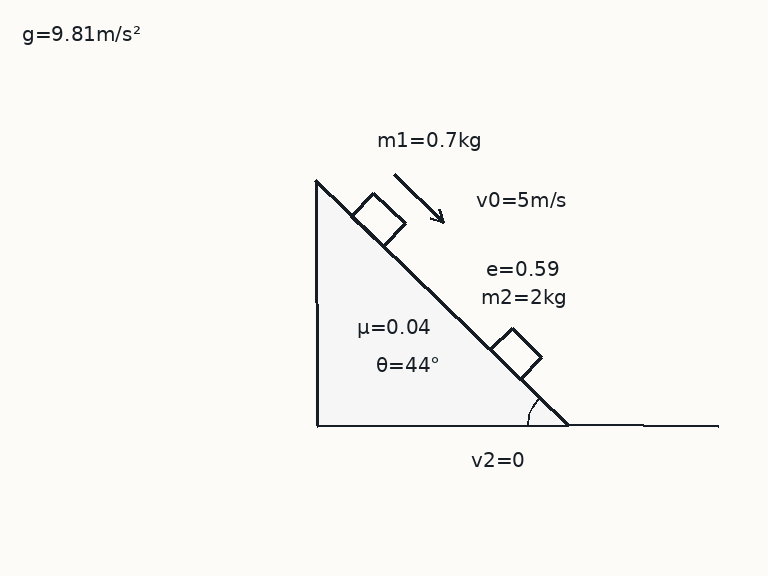block: (349, 191, 408, 248), (488, 326, 543, 381)
ramp: (314, 179, 570, 427)
